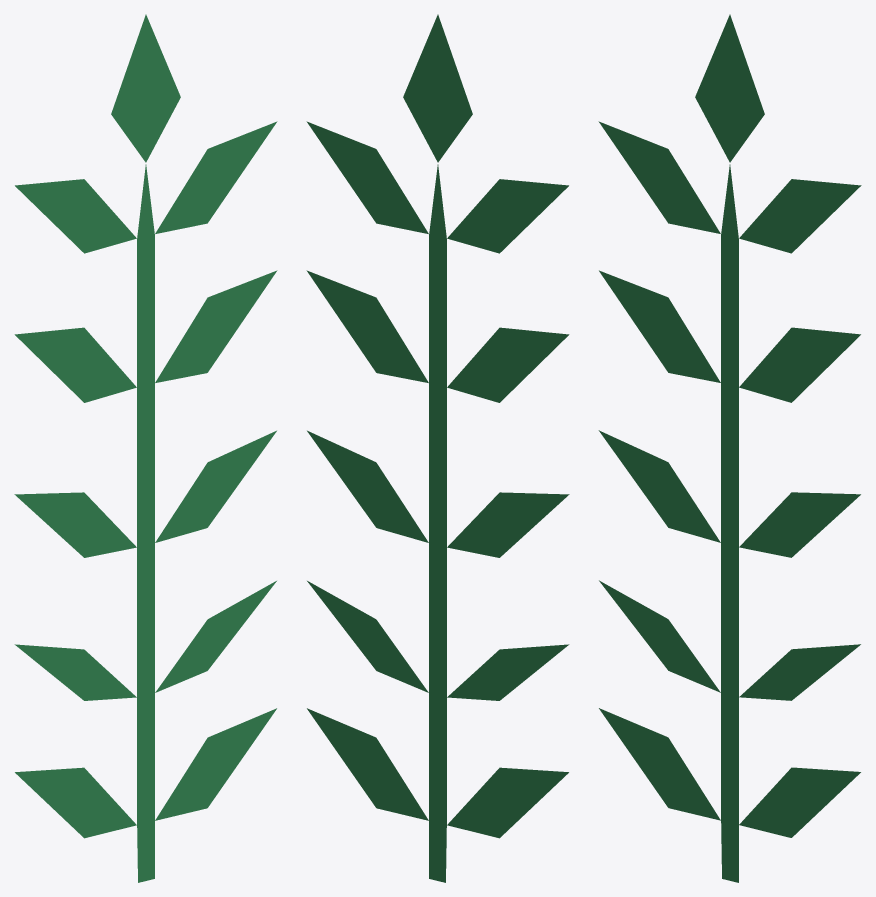
Rendered from seaweed_5.fbx.
The picture shows the model from 3 angles, left to right: view 1: azimuth 30°, elevation 25°; view 2: azimuth 150°, elevation 25°; view 3: azimuth 330°, elevation 25°; orthographic projection.
Visible parts, largest first — view 1: seaweed_5; view 2: seaweed_5; view 3: seaweed_5.
Boxes of the visible parts, x1,y1,x2,y2 form: seaweed_5: (14,14,277,882); seaweed_5: (306,14,569,882); seaweed_5: (598,14,861,882).
Bounding box in the file's own units: 177 × 558 × 0.000122.
